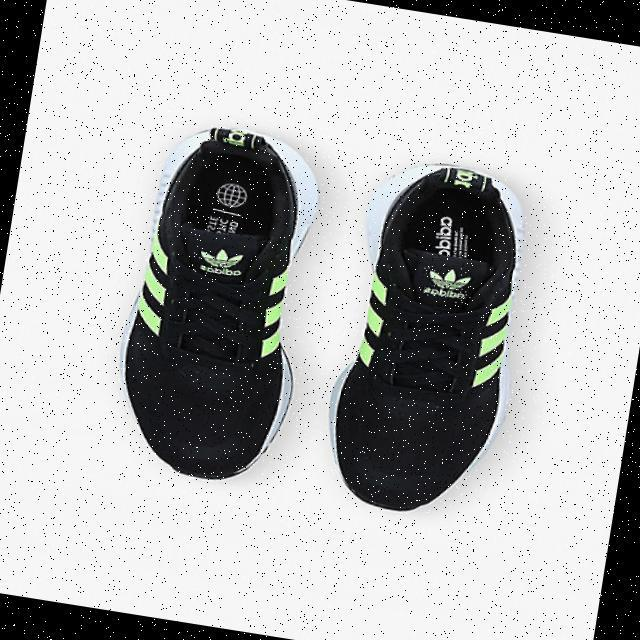Adidas: (419, 263, 476, 306), (191, 242, 248, 281)
